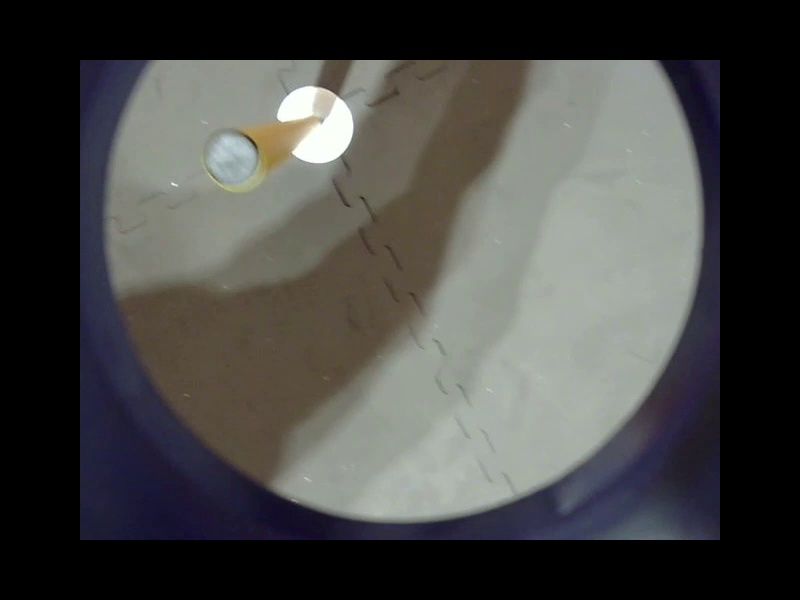tip: (506, 353, 624, 469)
